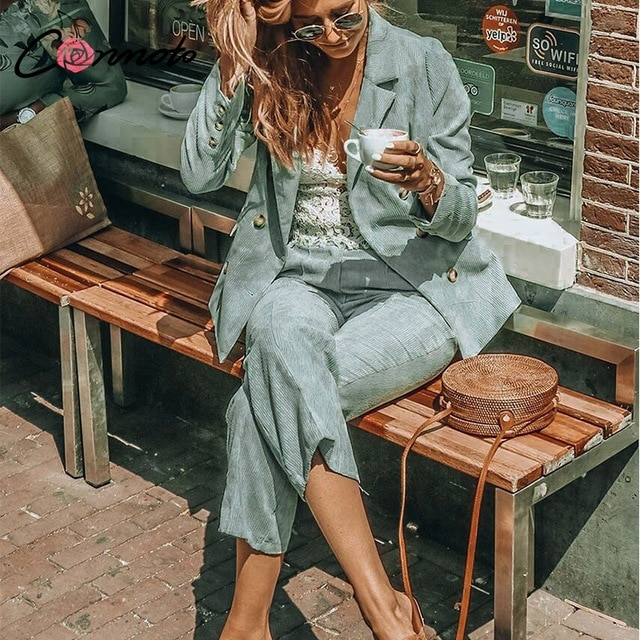F_W_suit jacket: (185, 26, 520, 378)
